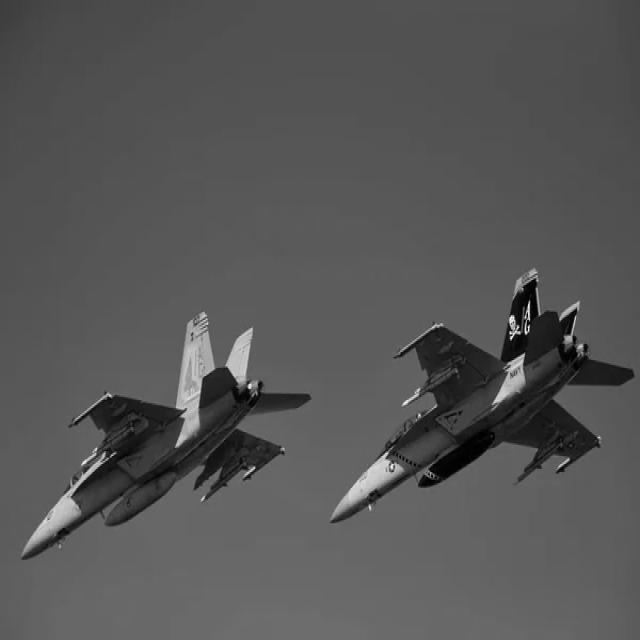Aircraft: (328, 259, 638, 537), (14, 304, 312, 574)
